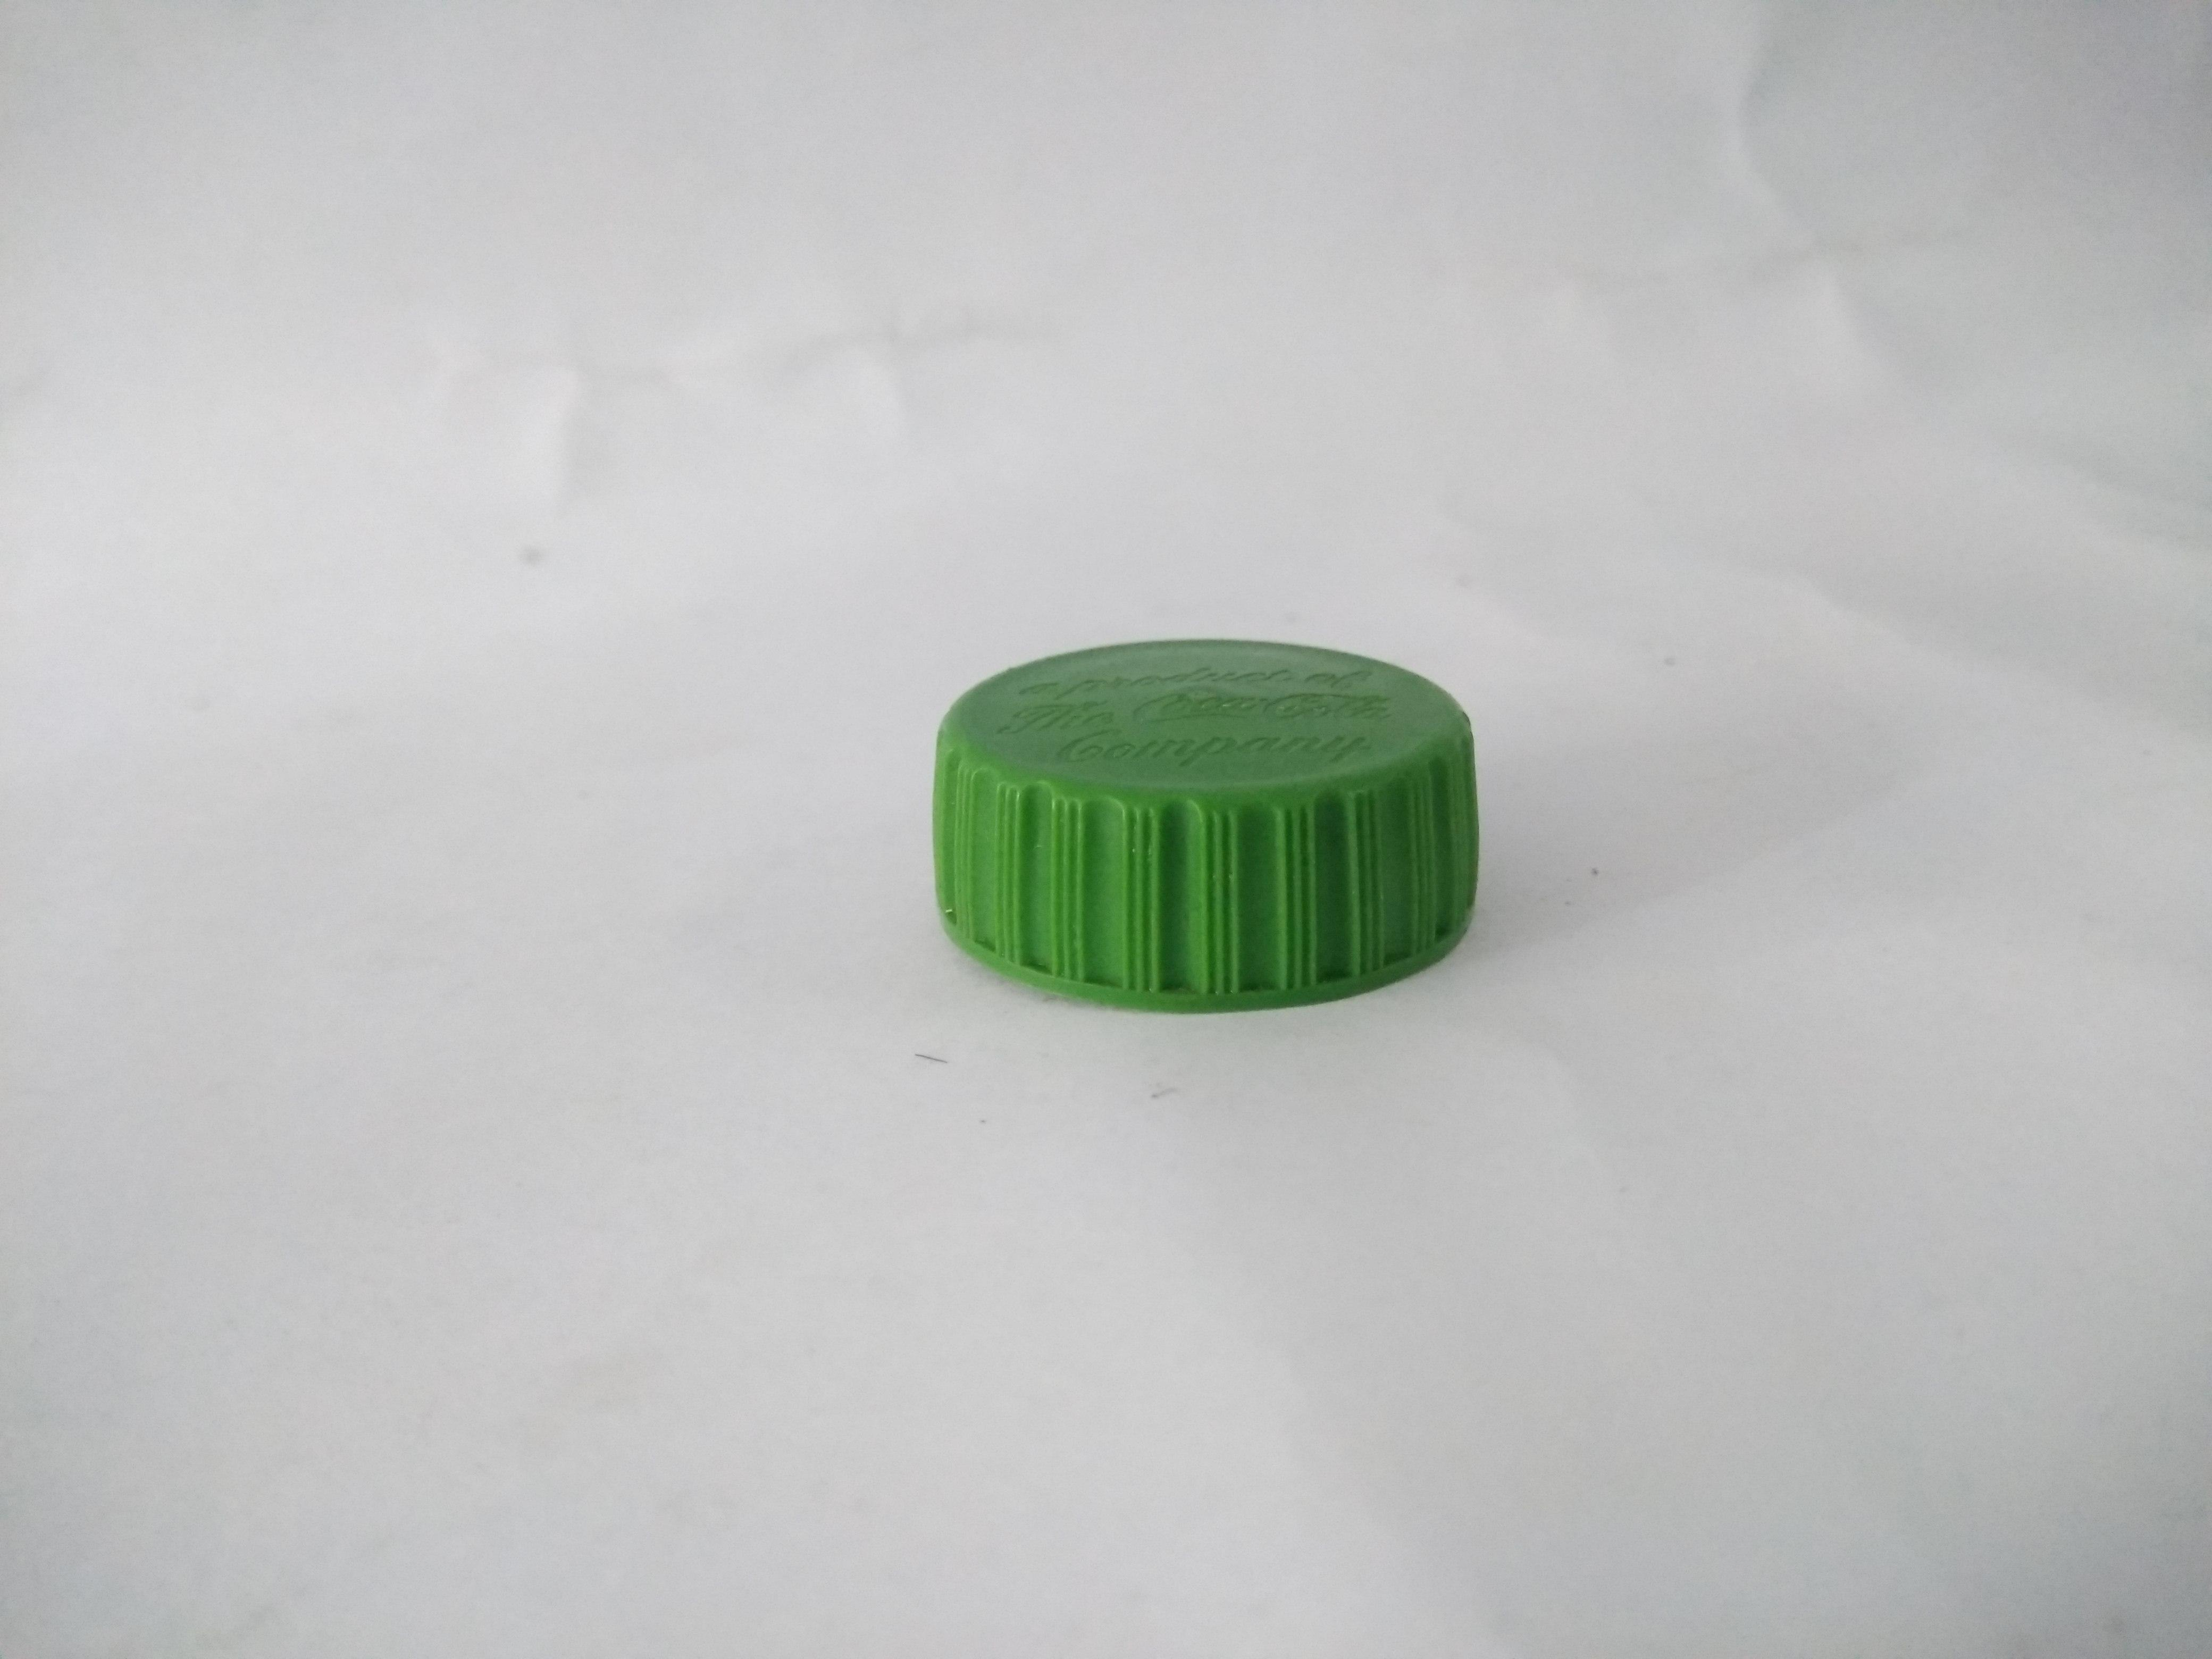HDPE: (927, 631, 1475, 1018)
